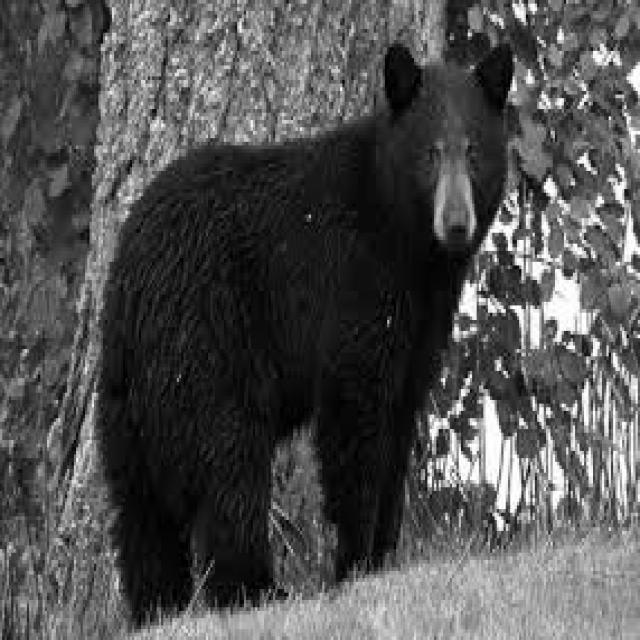Bear: (98, 42, 511, 624)
